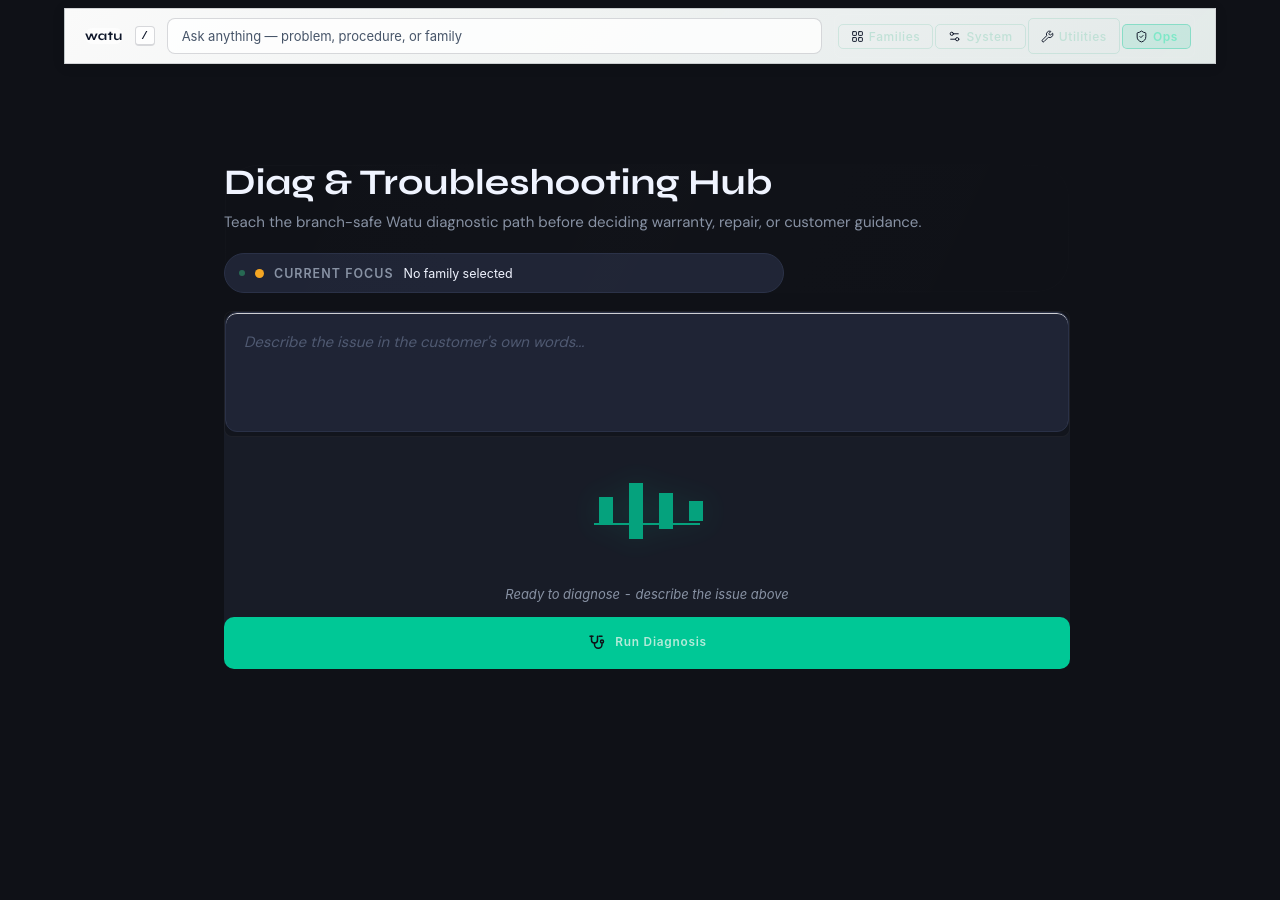
HomePage › clears the enhanced search input with the clear button
This screenshot has width=1280, height=900.
Type "screen issue" into the text box with placeholder "Describe the issue in the customer's own words..." at [647, 372], box [225, 312, 1069, 432]
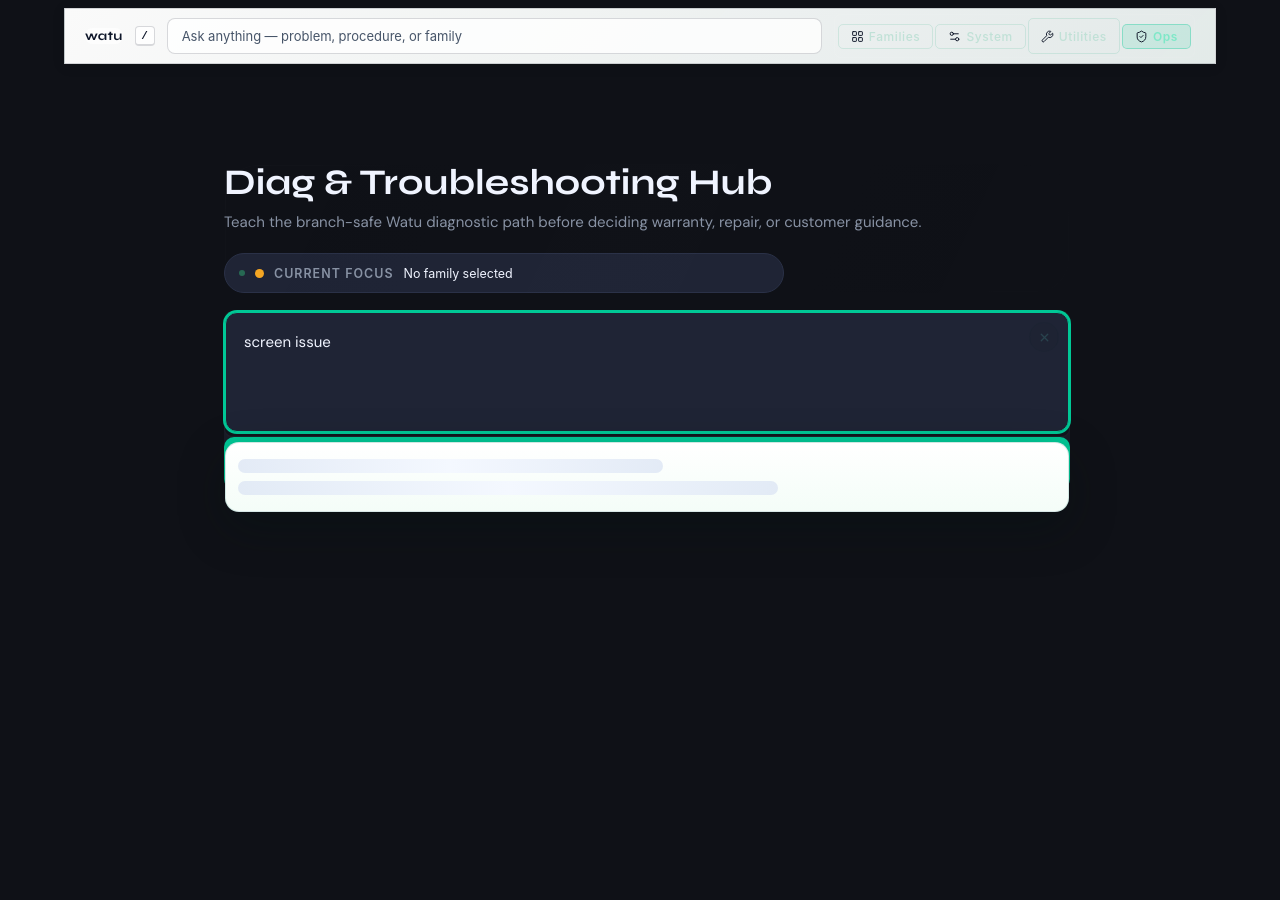
Result: the button named "clear input" is shown
Click the button named "clear input" at [1044, 337], box [1029, 322, 1059, 352]
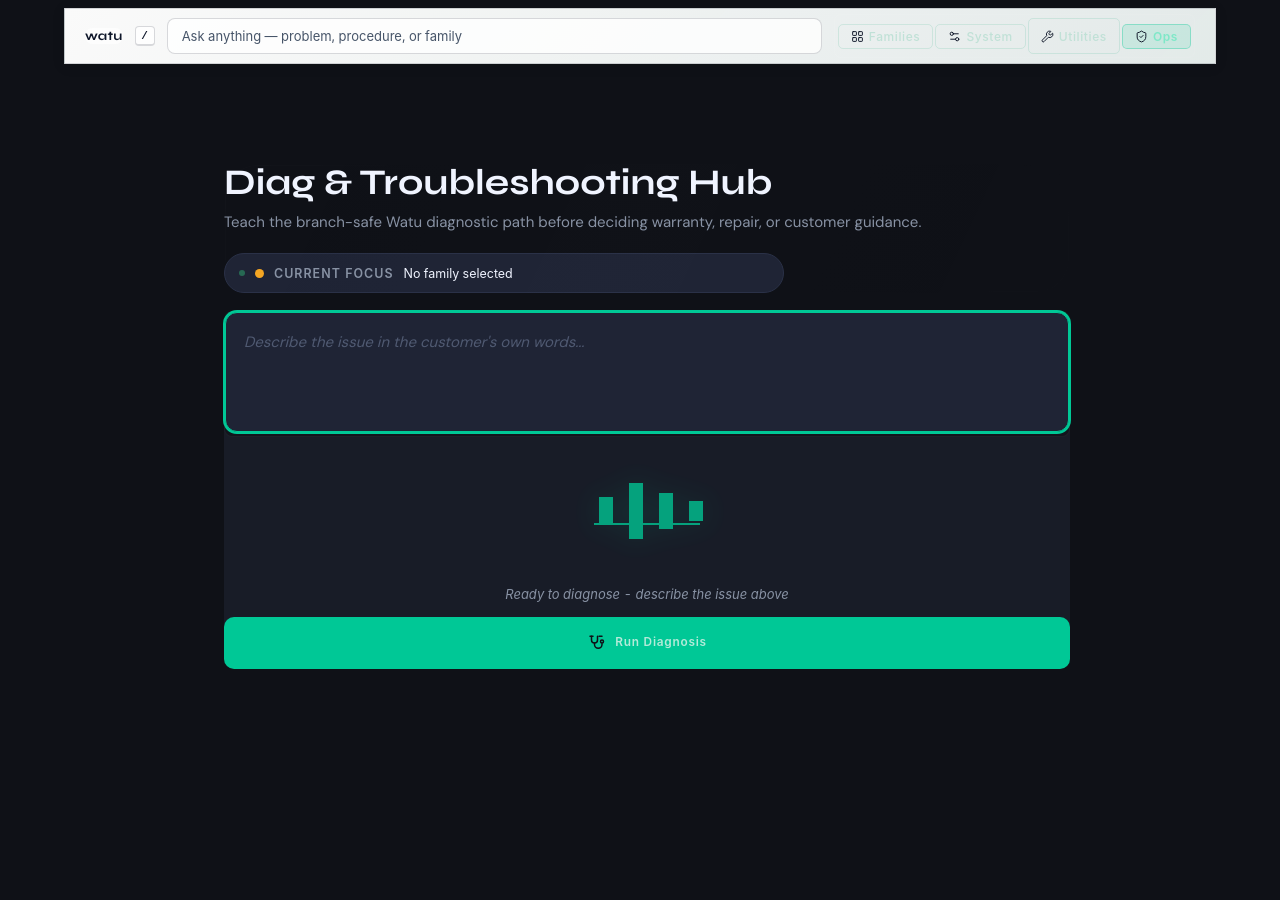
Result: the text box with placeholder "Describe the issue in the customer's own words..." is empty at [225, 312, 1069, 432]
